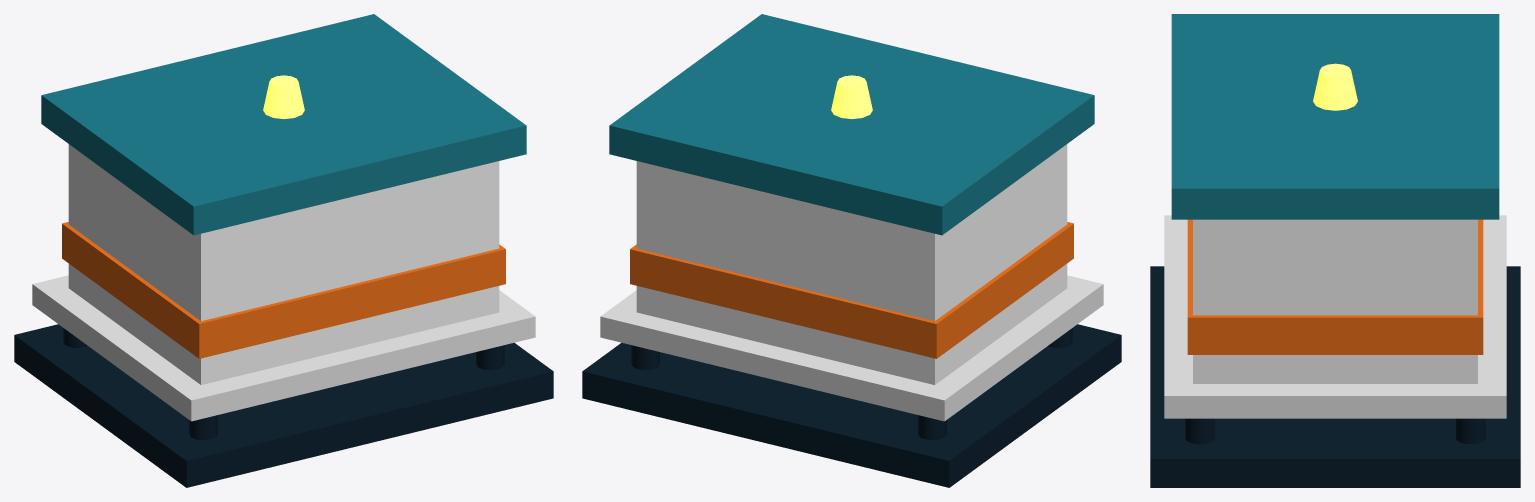
Rendered from posko_evakuasi.glb.
The picture shows the model from 3 angles, left to right: view 1: azimuth 30°, elevation 25°; view 2: azimuth 150°, elevation 25°; view 3: azimuth 270°, elevation 25°; orthographic projection. The views are drawn at different scales.
Parts seen in each view (by area): view 1: posko_evakuasi; view 2: posko_evakuasi; view 3: posko_evakuasi.
Part boxes in pixels (box(x1,y1,x2,y2)): posko_evakuasi: box(14, 14, 553, 487); posko_evakuasi: box(582, 14, 1121, 487); posko_evakuasi: box(1150, 14, 1520, 487).
Bounding box in the file's own units: 6.4 × 4.97 × 5.2.
